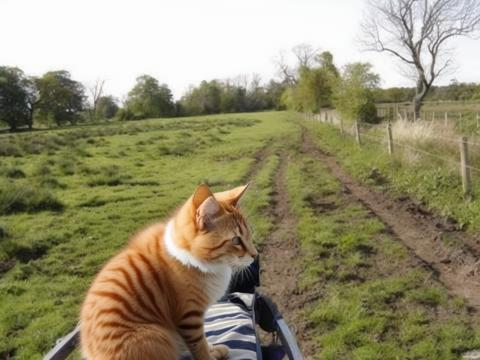cat: (75, 182, 260, 360)
